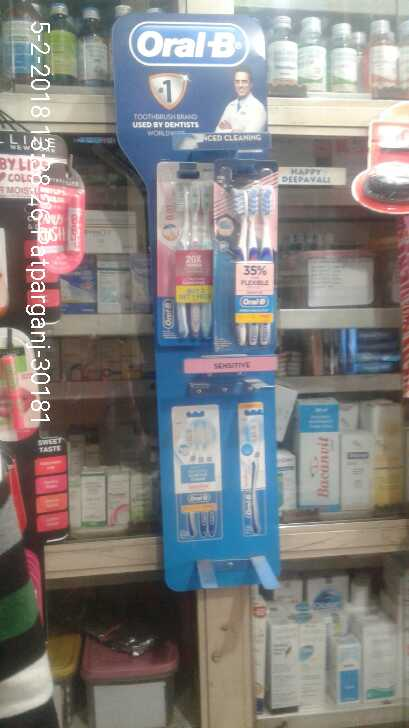oralb: (155, 177, 216, 345), (220, 182, 279, 351)
